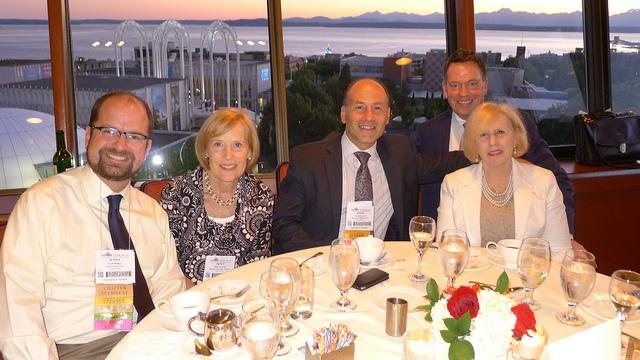person: (6, 92, 190, 360), (272, 77, 471, 258), (415, 51, 577, 241), (434, 103, 580, 270), (161, 106, 281, 289)
